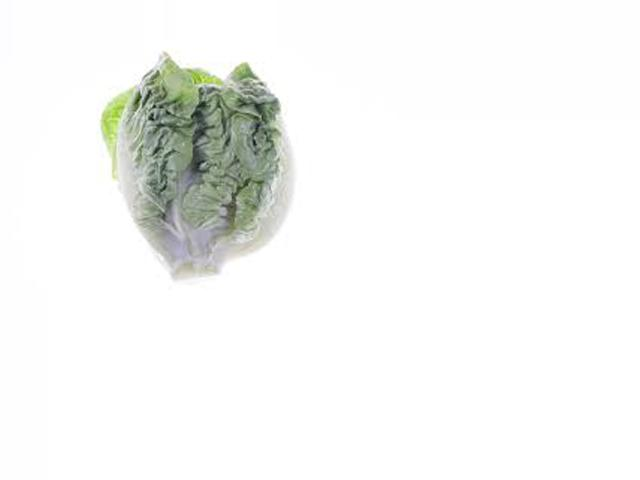lettuce: (89, 57, 299, 278)
